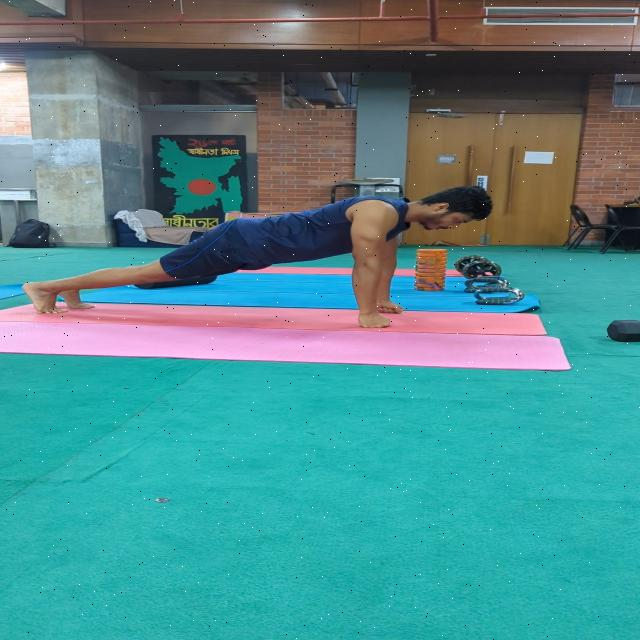Normal_PushUps: (15, 183, 518, 342)
